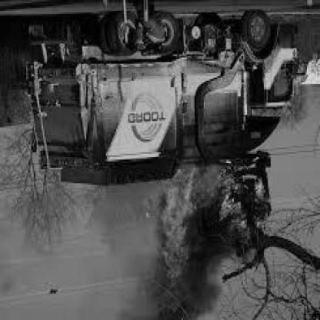Smoke: (148, 279, 216, 315)
